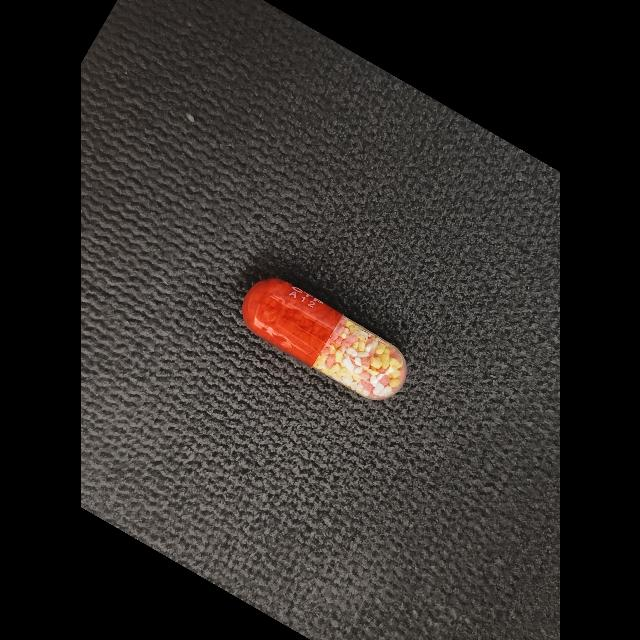Intact Capsule: (242, 279, 406, 400)
